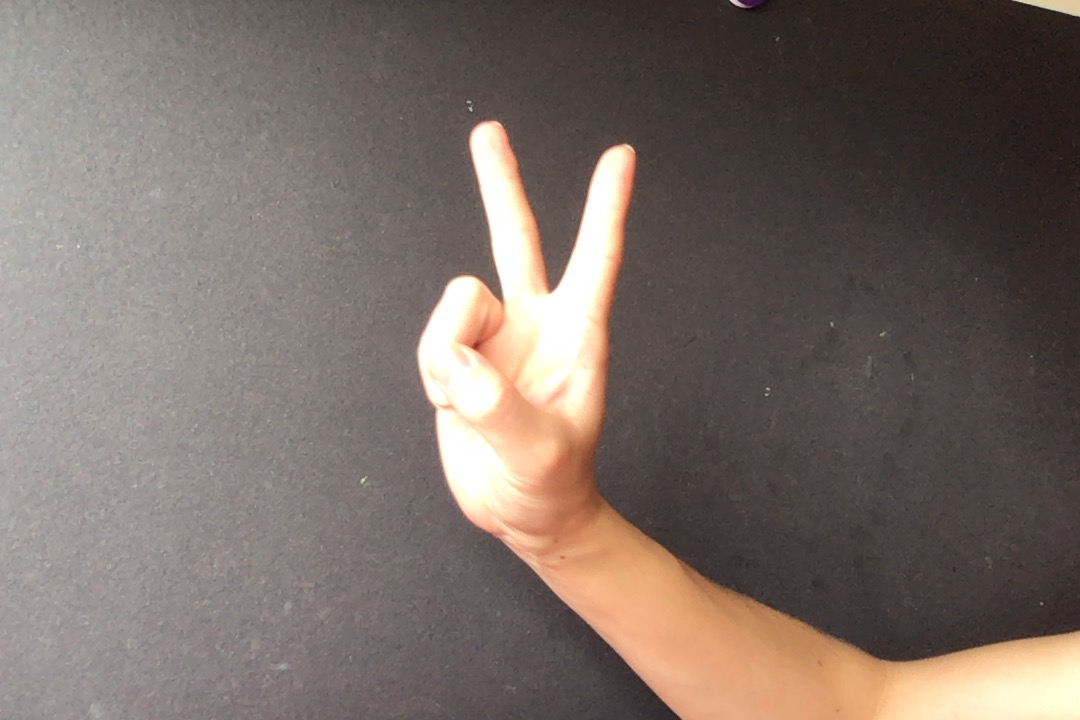peacesign: (411, 114, 644, 549)
